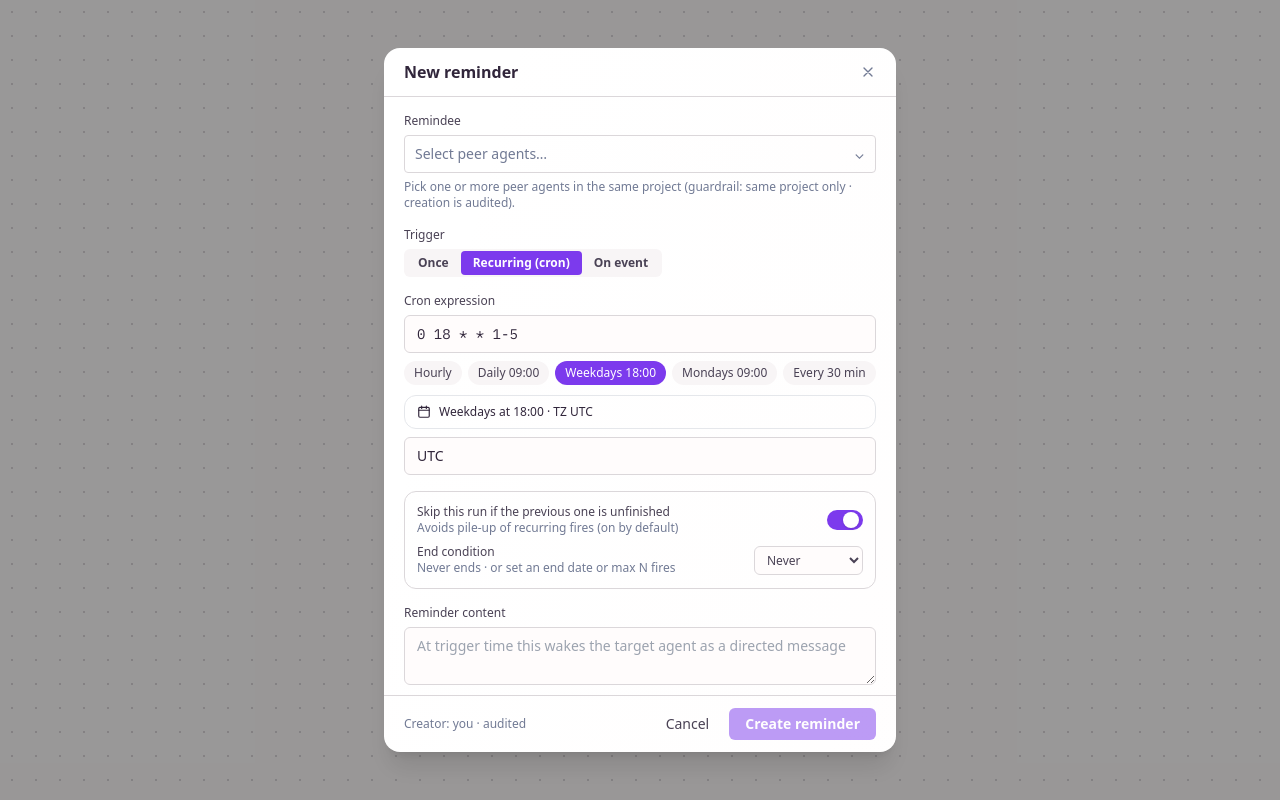
Test: ReminderCreateModal — on_event trigger › shows on_event fields and hides cron/once fields when selected
The image size is (1280, 800).
What coordinates should you click on to do the following:
click the tab with test id "reminder-kind-on_event"
I would click on:
 (621, 263)
Its box is [582,251,660,275].
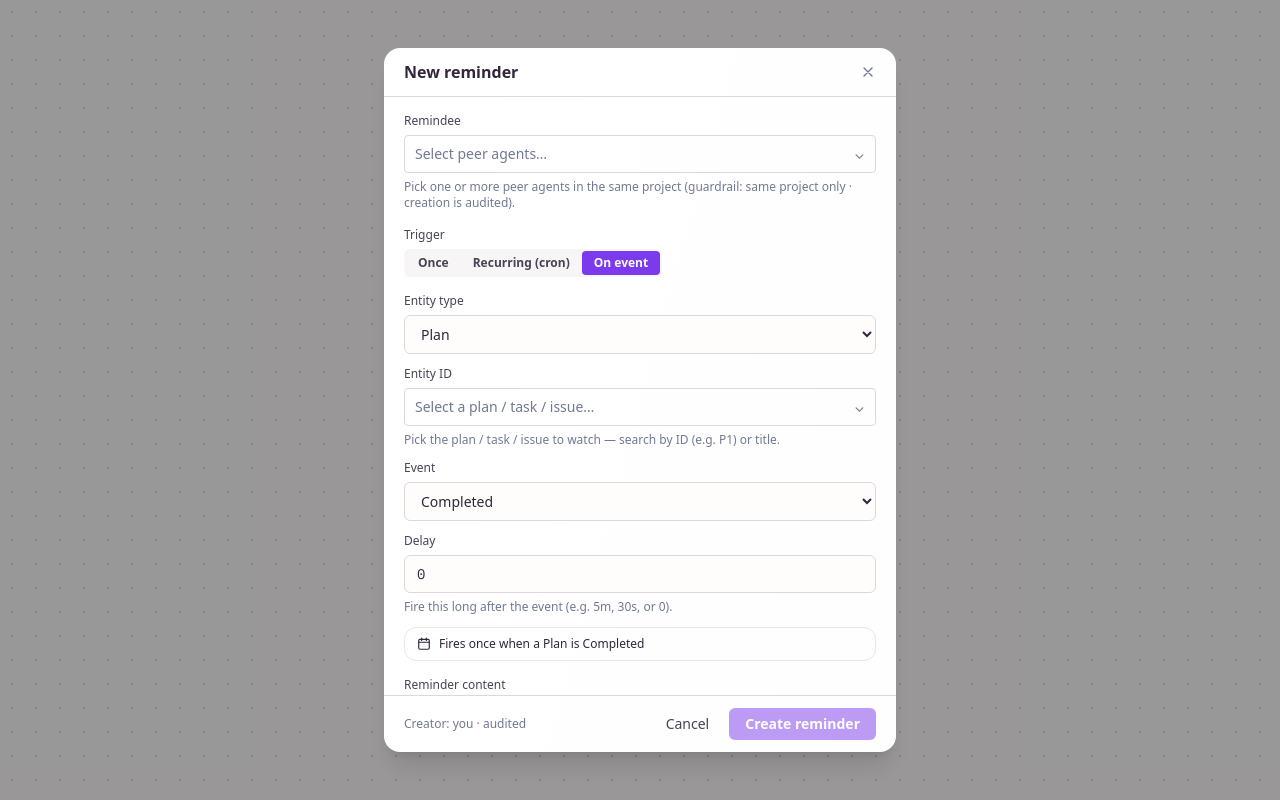
Check: the dropdown with test id "reminder-entity-type" is shown, box [404,315,876,354]
Check: the button with test id "reminder-entity-id-trigger" is shown, box [404,388,876,426]
Check: the dropdown with test id "reminder-event" is shown, box [404,482,876,521]
